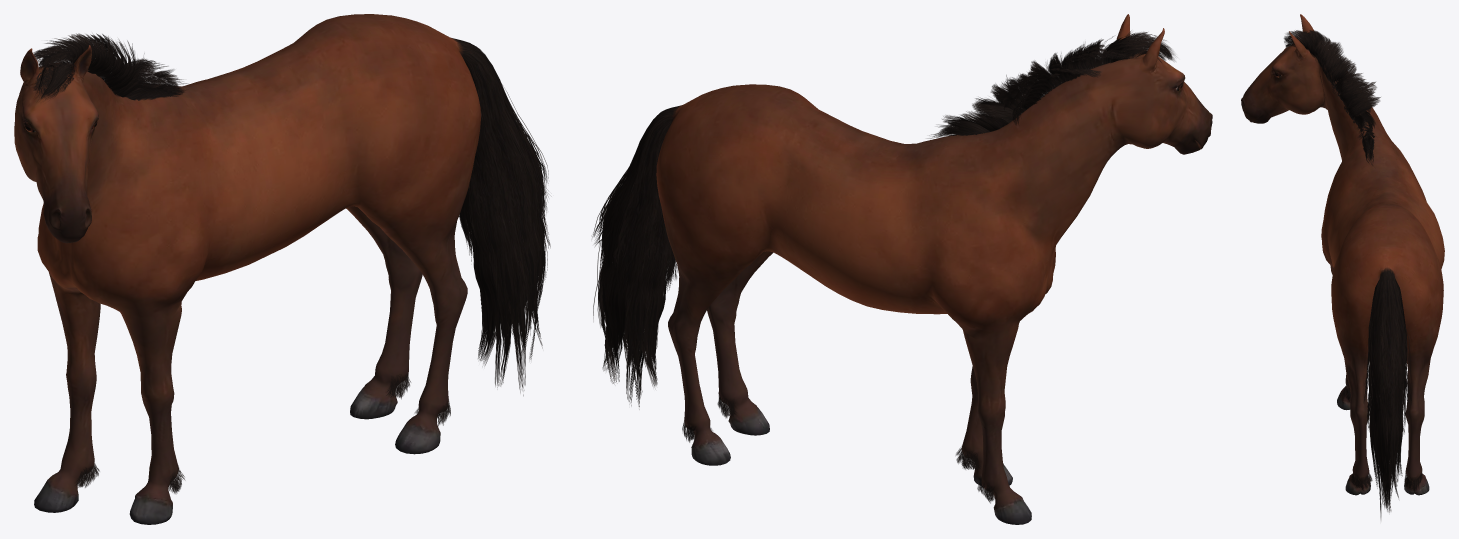
File: caballo.glb
3 views of the same model, side by side, from view 1: azimuth 30°, elevation 25°; view 2: azimuth 150°, elevation 25°; view 3: azimuth 270°, elevation 25° (orthographic). The views are drawn at different scales.
Parts seen in each view (by area): view 1: horse.2_2, horse_hair.3_3; view 2: horse.2_2, horse_hair.3_3; view 3: horse.2_2, horse_hair.3_3.
Part boxes in pixels (<box>): horse.2_2: <box>14,14,482,524</box>; horse_hair.3_3: <box>33,33,550,493</box>; horse.2_2: <box>656,14,1212,524</box>; horse_hair.3_3: <box>592,32,1175,503</box>; horse.2_2: <box>1241,14,1444,495</box>; horse_hair.3_3: <box>1284,30,1422,518</box>.
Bounding box in the file's own units: 3.77 × 3.19 × 1.72.
2 materials, 2 textured.
